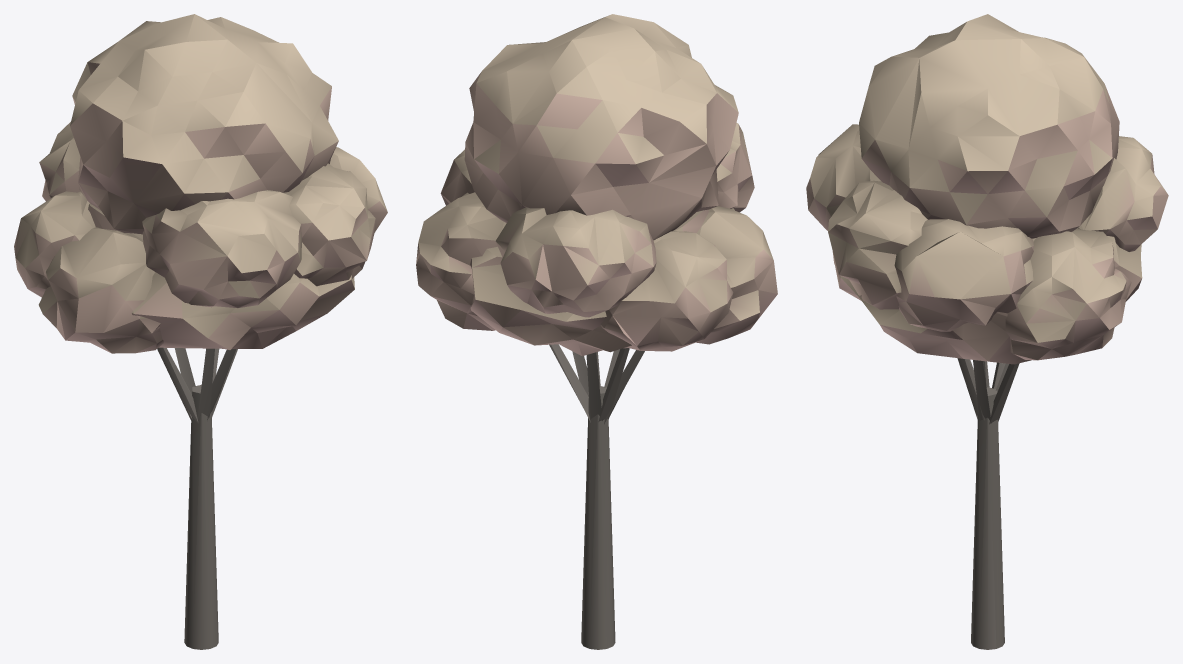
Rendered from maple.lod1.glb.
3 views of the same model, side by side, from view 1: azimuth 30°, elevation 25°; view 2: azimuth 150°, elevation 25°; view 3: azimuth 270°, elevation 25° (orthographic).
Bounding box in the file's own units: 3.42 × 6.31 × 3.4.
